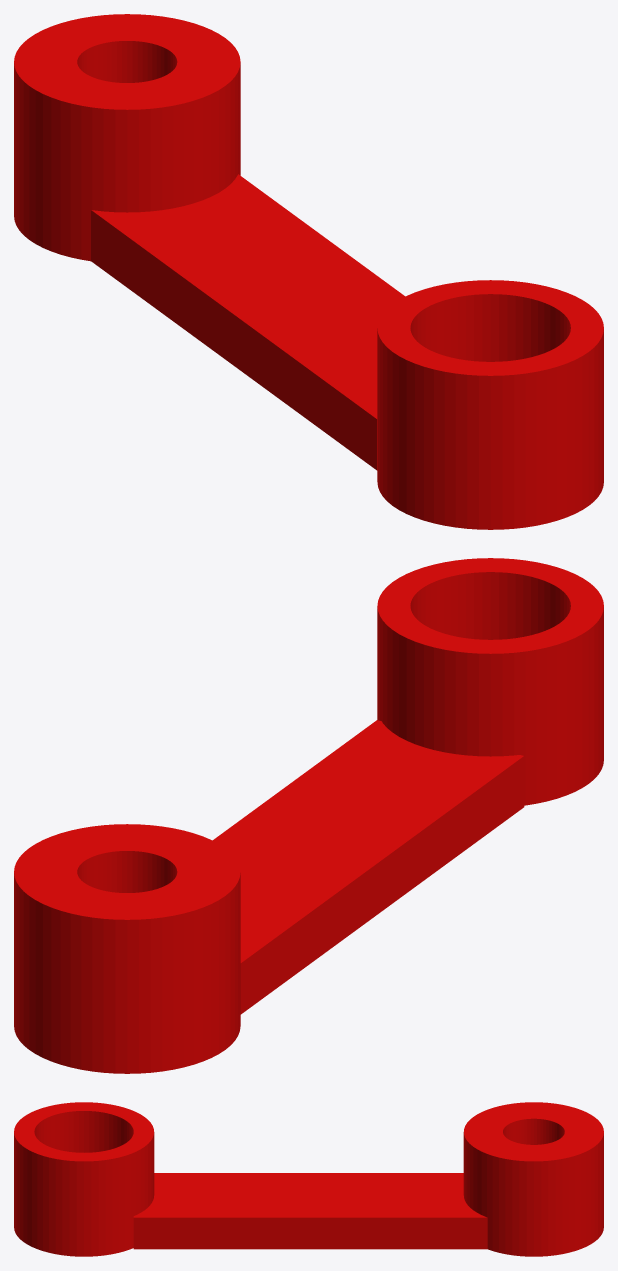
Rendered from inks_1_PCBWay Community.004.dae.
3 renders of one model, top to bottom at view 1: azimuth 30°, elevation 25°; view 2: azimuth 150°, elevation 25°; view 3: azimuth 270°, elevation 25°, orthographic. The views are drawn at different scales.
Visible parts, largest first — view 1: tmp_export_inks_1_PCBWay Community.004; view 2: tmp_export_inks_1_PCBWay Community.004; view 3: tmp_export_inks_1_PCBWay Community.004.
Part boxes in pixels (box(x1,y1,x2,y2)): tmp_export_inks_1_PCBWay Community.004: box(14, 14, 603, 529); tmp_export_inks_1_PCBWay Community.004: box(14, 558, 603, 1073); tmp_export_inks_1_PCBWay Community.004: box(14, 1102, 603, 1256).
Size of the model in its own units: 0.012 by 0.0505 by 0.009.
